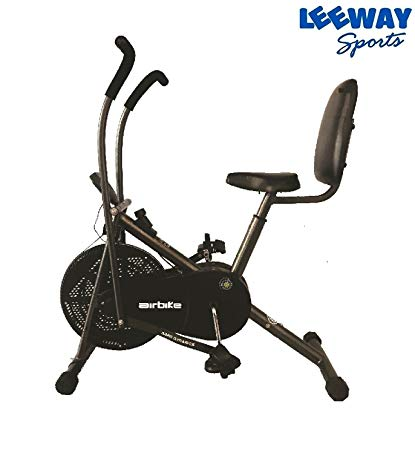gym_bike: (58, 35, 368, 400)
